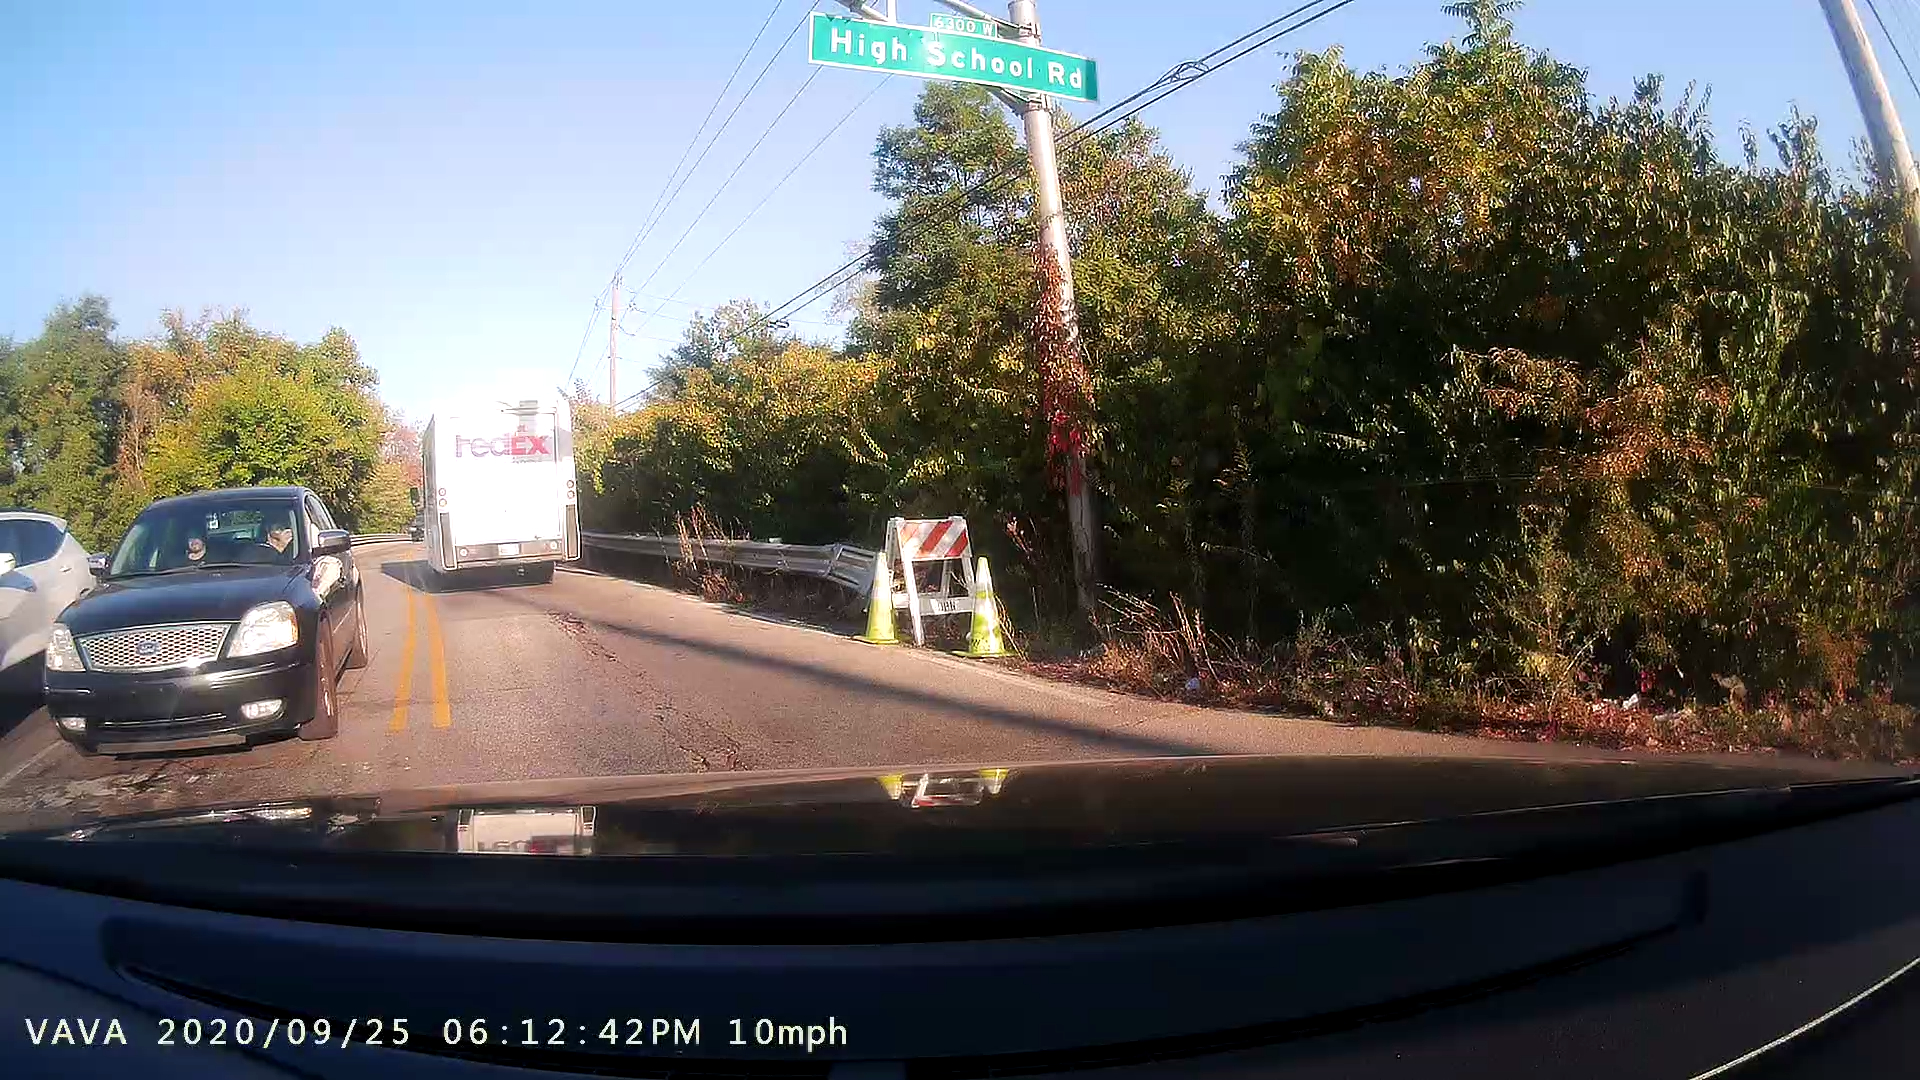const_cone: (939, 550, 1030, 673), (835, 542, 919, 651)
